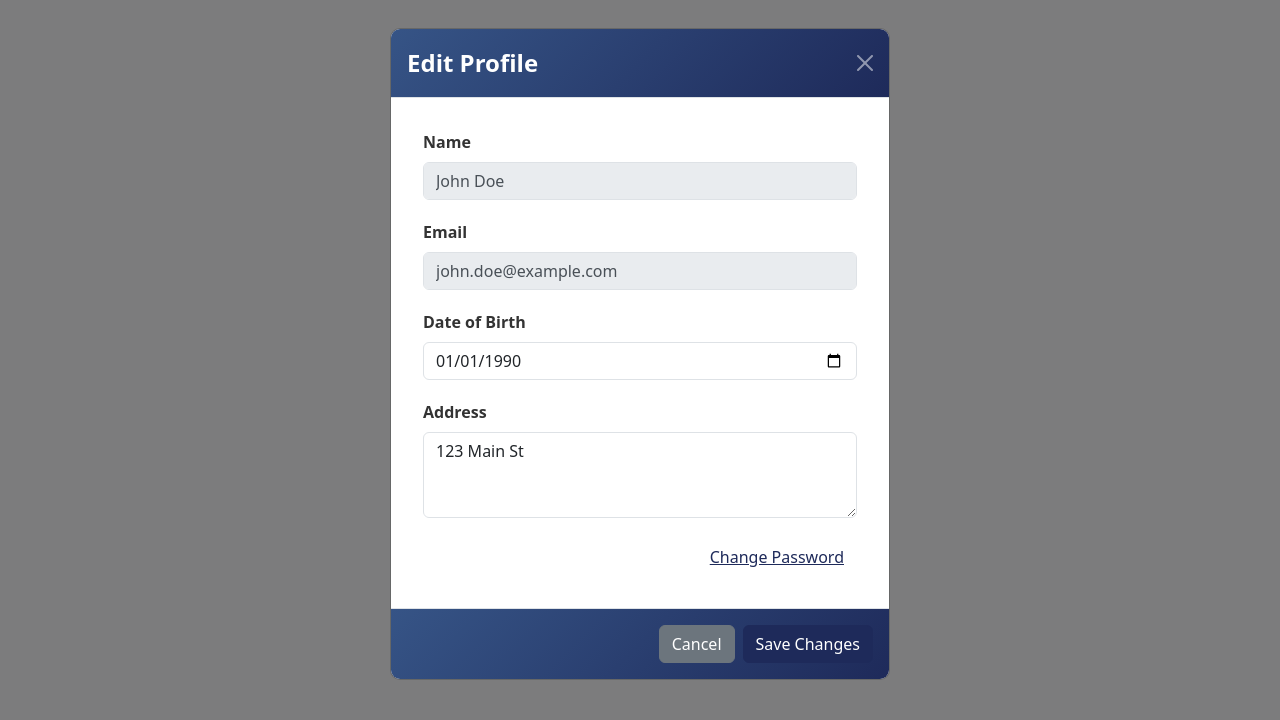
renders EditProfileModal and opens Change Password modal
The width and height of the screenshot is (1280, 720).
Expected: the text "Edit Profile" is shown, [407, 45, 538, 81]
// Open Change Password modal
Click the button "Change Password" at (777, 557), box [697, 538, 857, 576]
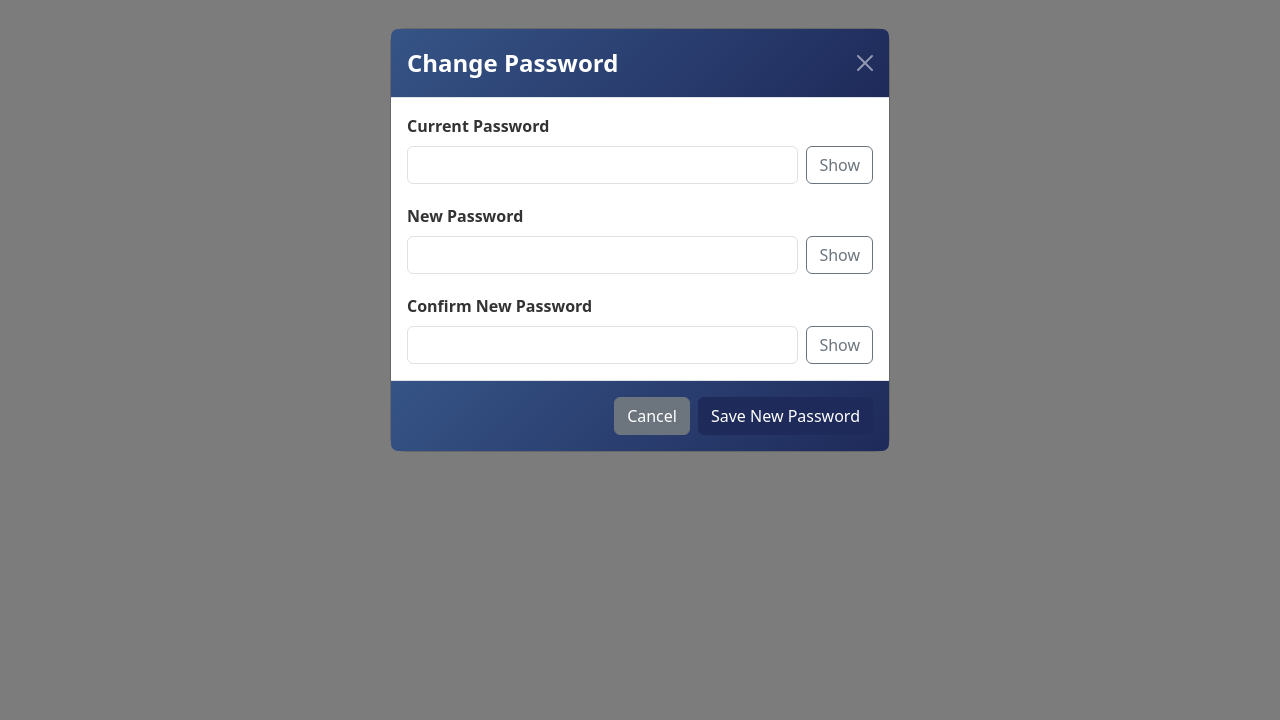
Expected: the text "Change Password" is shown, [407, 45, 618, 81]
